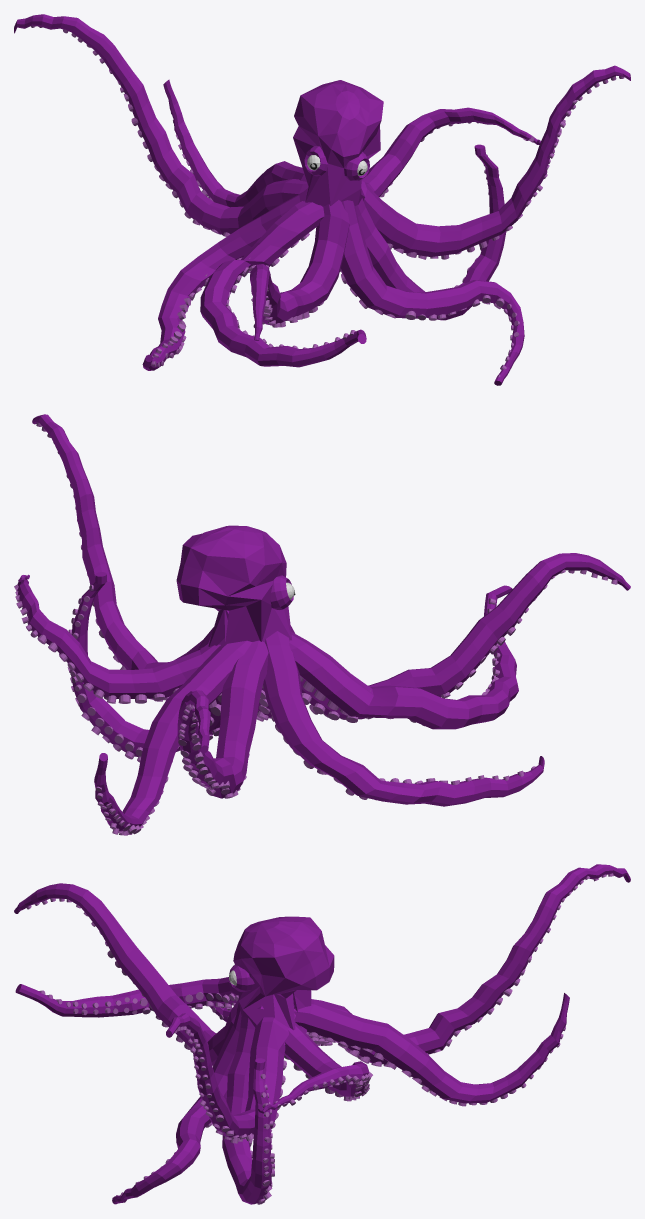
3 views of the same model, one above another, from view 1: azimuth 30°, elevation 25°; view 2: azimuth 150°, elevation 25°; view 3: azimuth 270°, elevation 25° (orthographic). The views are drawn at different scales.
Parts seen in each view (by area): view 1: node_MeshObject277900096-PolyPaper1, node_MeshObject-240819968-PolyPaper0, node_MeshObject981241536-PolyPaper0, node_MeshObject-1278260096-PolyPaper0, node_MeshObject-759540032-PolyPaper0; view 2: node_MeshObject277900096-PolyPaper1, node_MeshObject-240819968-PolyPaper0, node_MeshObject-1278260096-PolyPaper0, node_MeshObject-759540032-PolyPaper0, node_MeshObject981241536-PolyPaper0; view 3: node_MeshObject277900096-PolyPaper1, node_MeshObject-240819968-PolyPaper0, node_MeshObject981241536-PolyPaper0, node_MeshObject-1278260096-PolyPaper0, node_MeshObject-759540032-PolyPaper0.
Part boxes in pixels (x1=…): node_MeshObject277900096-PolyPaper1: x1=31, y1=25, x2=534, y2=385; node_MeshObject-240819968-PolyPaper0: x1=14, y1=14, x2=630, y2=370; node_MeshObject981241536-PolyPaper0: x1=262, y1=76, x2=624, y2=354; node_MeshObject-1278260096-PolyPaper0: x1=123, y1=94, x2=531, y2=377; node_MeshObject-759540032-PolyPaper0: x1=204, y1=229, x2=504, y2=327; node_MeshObject277900096-PolyPaper1: x1=14, y1=525, x2=630, y2=834; node_MeshObject-240819968-PolyPaper0: x1=17, y1=414, x2=544, y2=831; node_MeshObject-1278260096-PolyPaper0: x1=37, y1=569, x2=617, y2=835; node_MeshObject-759540032-PolyPaper0: x1=77, y1=627, x2=515, y2=784; node_MeshObject981241536-PolyPaper0: x1=20, y1=422, x2=500, y2=718; node_MeshObject277900096-PolyPaper1: x1=14, y1=873, x2=613, y2=1204; node_MeshObject-240819968-PolyPaper0: x1=15, y1=864, x2=630, y2=1146; node_MeshObject981241536-PolyPaper0: x1=39, y1=981, x2=369, y2=1198; node_MeshObject-1278260096-PolyPaper0: x1=26, y1=898, x2=531, y2=1196; node_MeshObject-759540032-PolyPaper0: x1=107, y1=950, x2=421, y2=1204.
Bounding box in the file's own units: 2.18 × 1.15 × 2.5.
